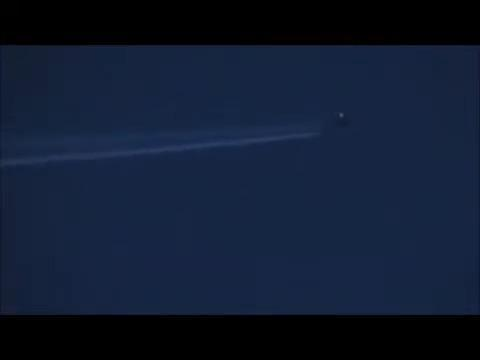Plane: (103, 95, 369, 145)
